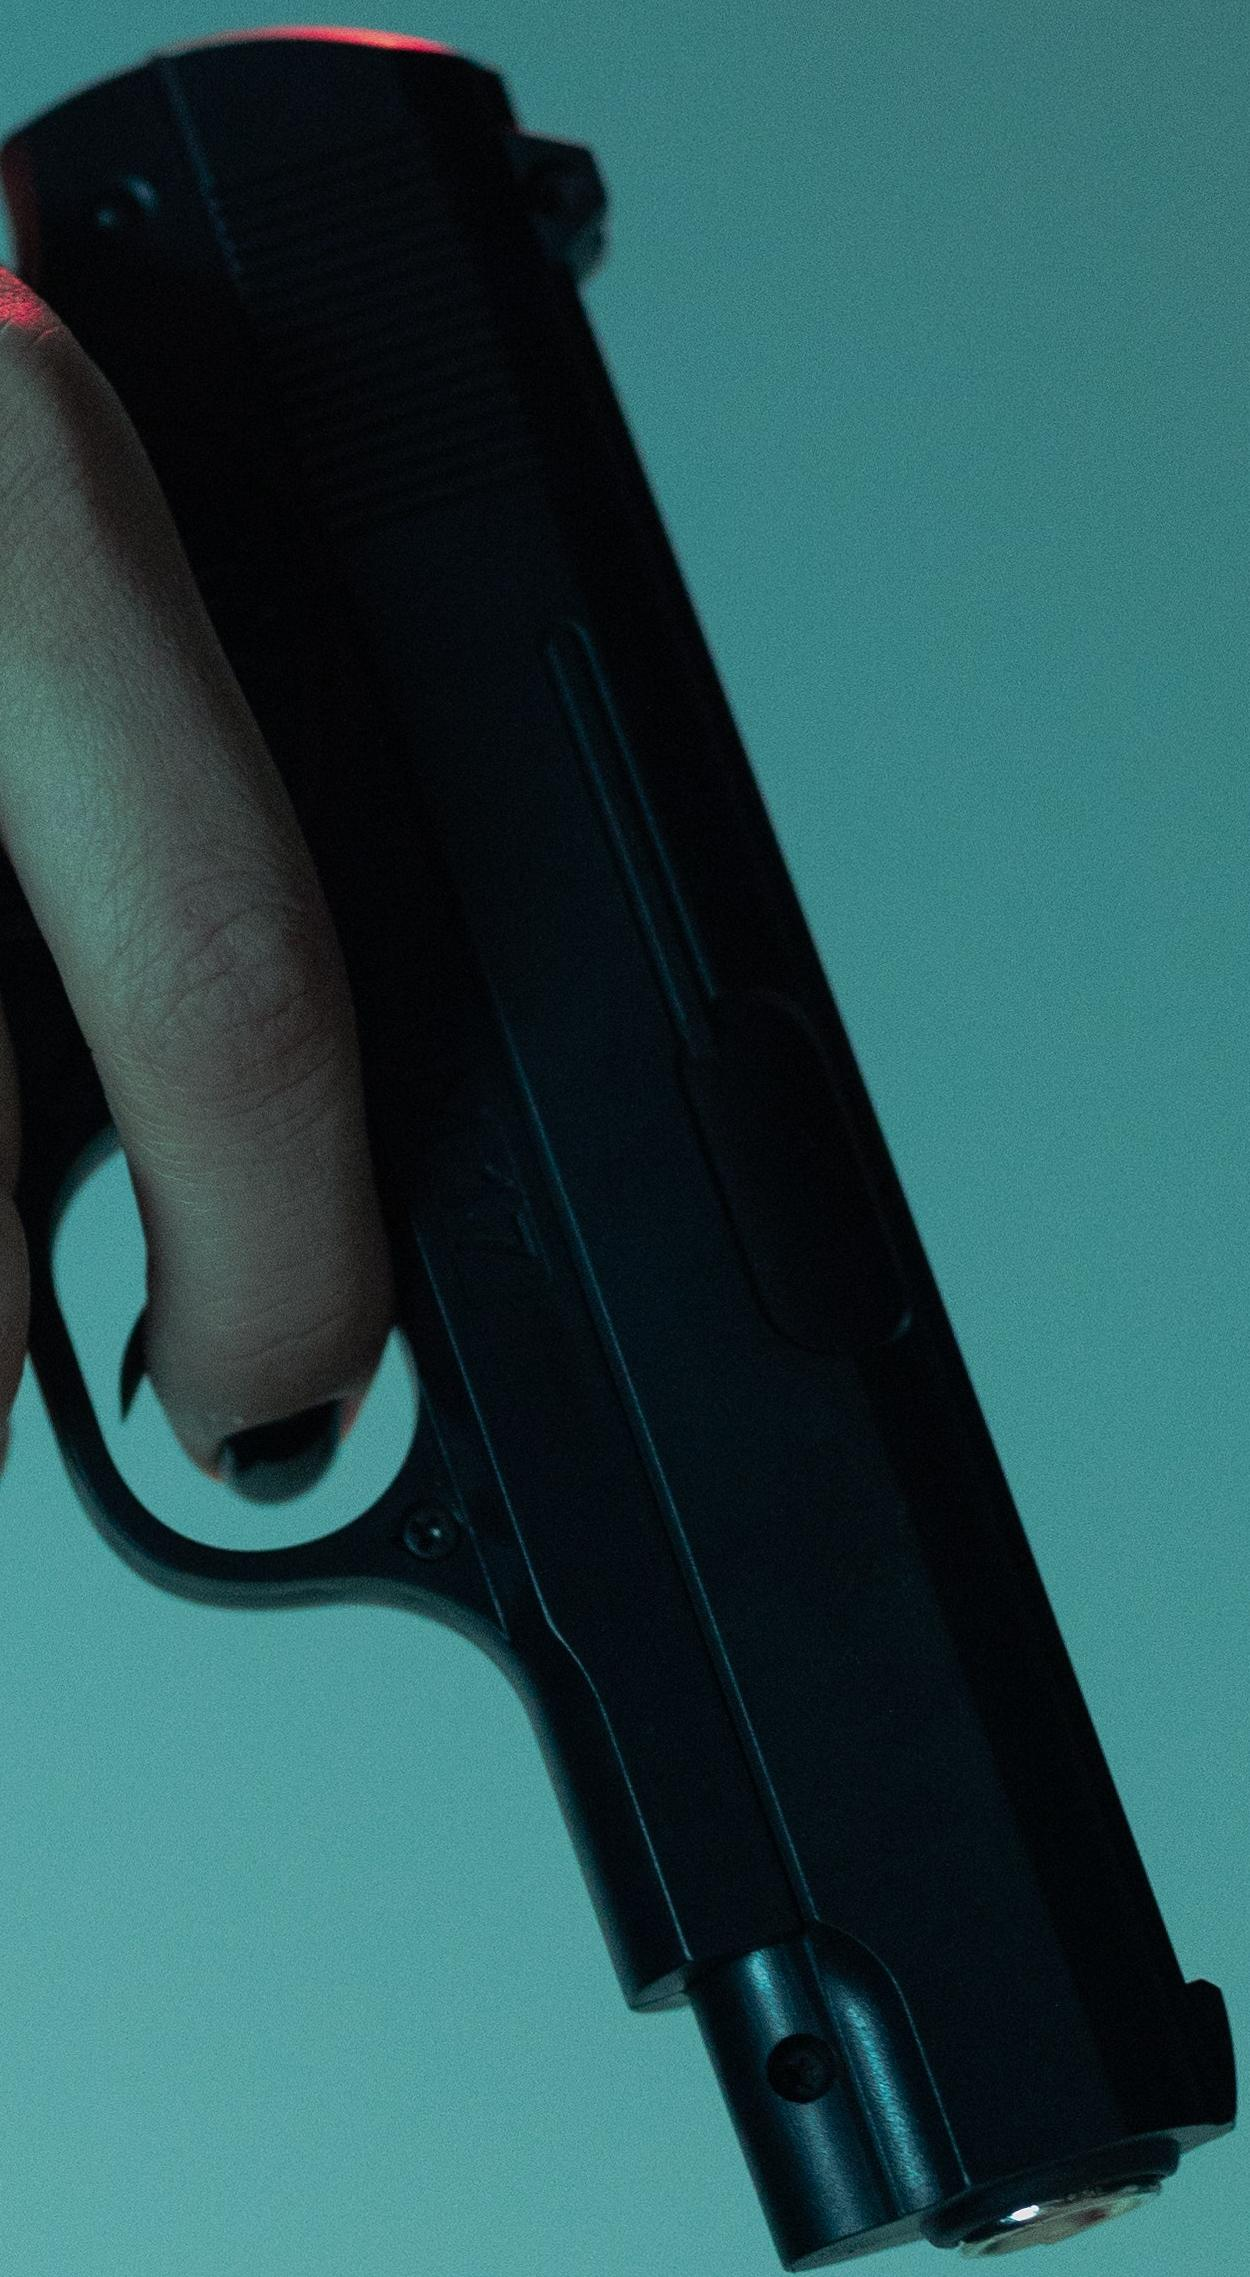gun: (0, 2, 1250, 2277)
